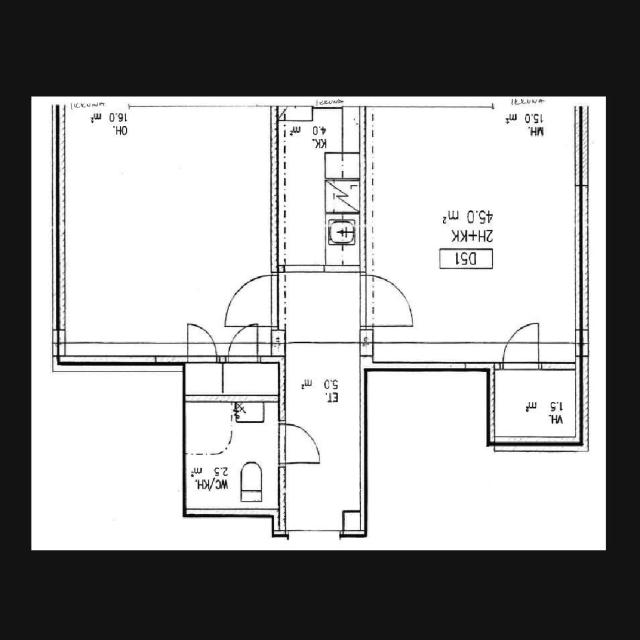door: (492, 318, 562, 444), (362, 270, 418, 334), (220, 271, 278, 330), (492, 314, 547, 372), (277, 418, 324, 466), (178, 318, 220, 363), (225, 324, 263, 363)
window: (287, 525, 347, 542)
zone: (362, 98, 581, 368), (58, 108, 273, 365), (183, 364, 283, 518), (274, 105, 360, 273), (489, 365, 581, 445)
